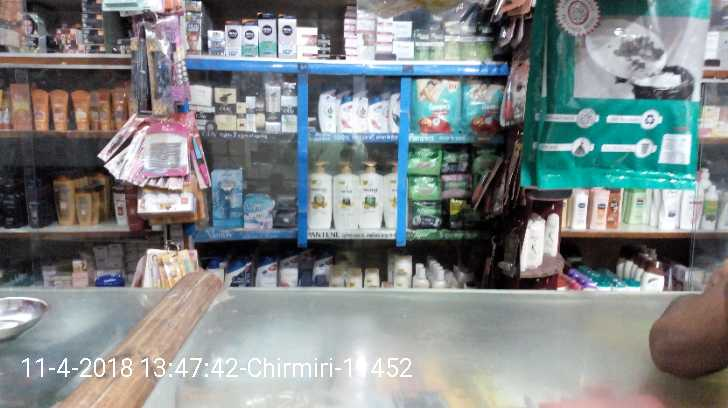venus: (212, 167, 244, 229), (244, 194, 273, 229)
